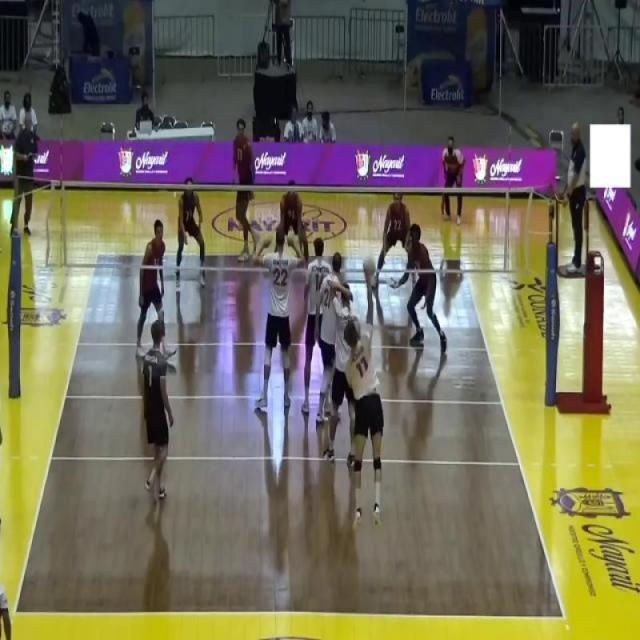volleyball: (363, 254, 376, 278)
